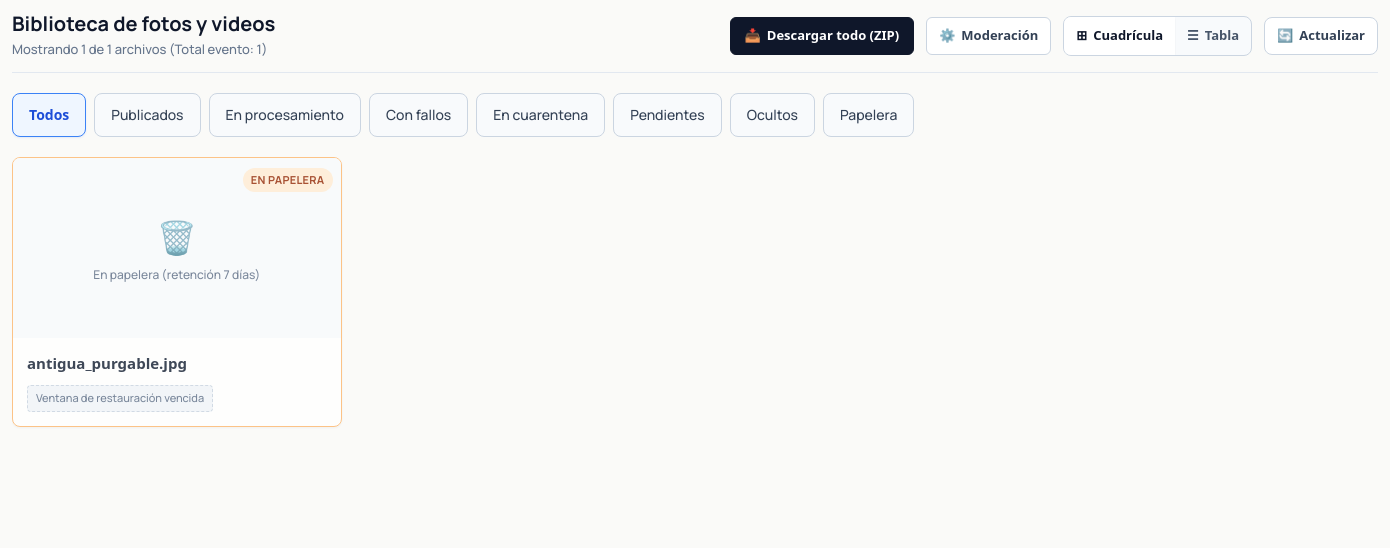
it: OrganizerMediaLibraryComponent & Media Integration (EL-TK-100) › EL-TK-111 Moderation and Trash Integration › Escenario 3: Filtro TRASHED muestra RetentionNotice y previene restauración inválida cuando canRestore es false
Click the button with class "filter-btn" showing "Papelera". click: [869, 114]
box: [823,92,914,136]
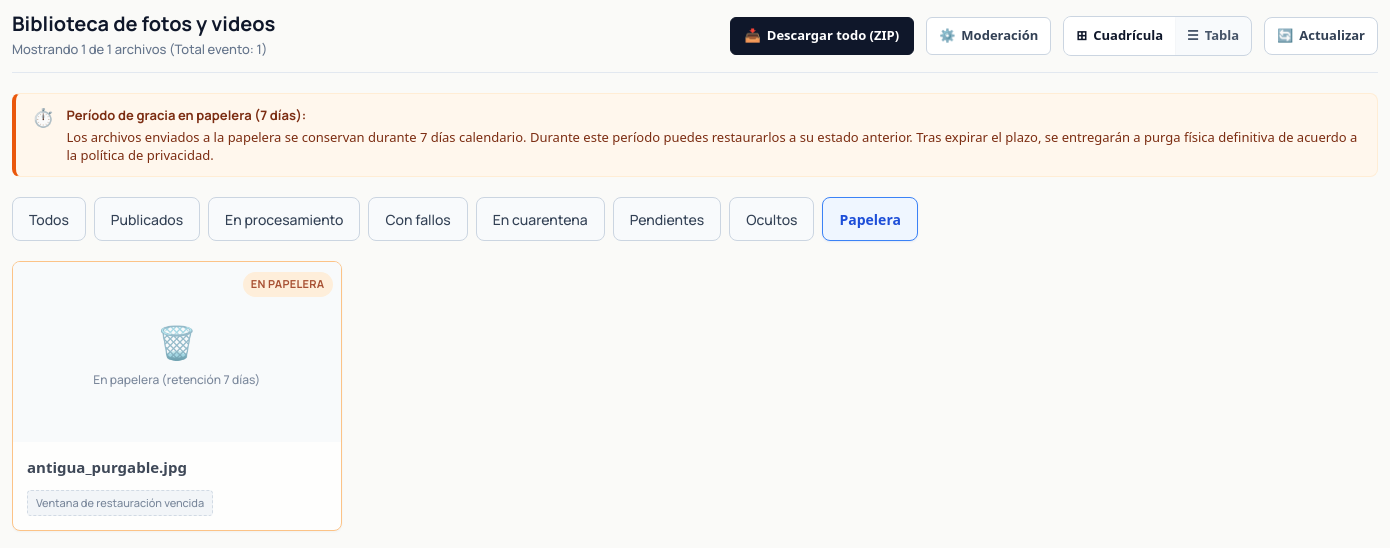
Expected: the text "Ventana de restauración vencida" is shown, [27,490,213,516]
Result: the element that starts with "Período de gracia en papelera (7 días):" is shown at [12,92,1378,177]
